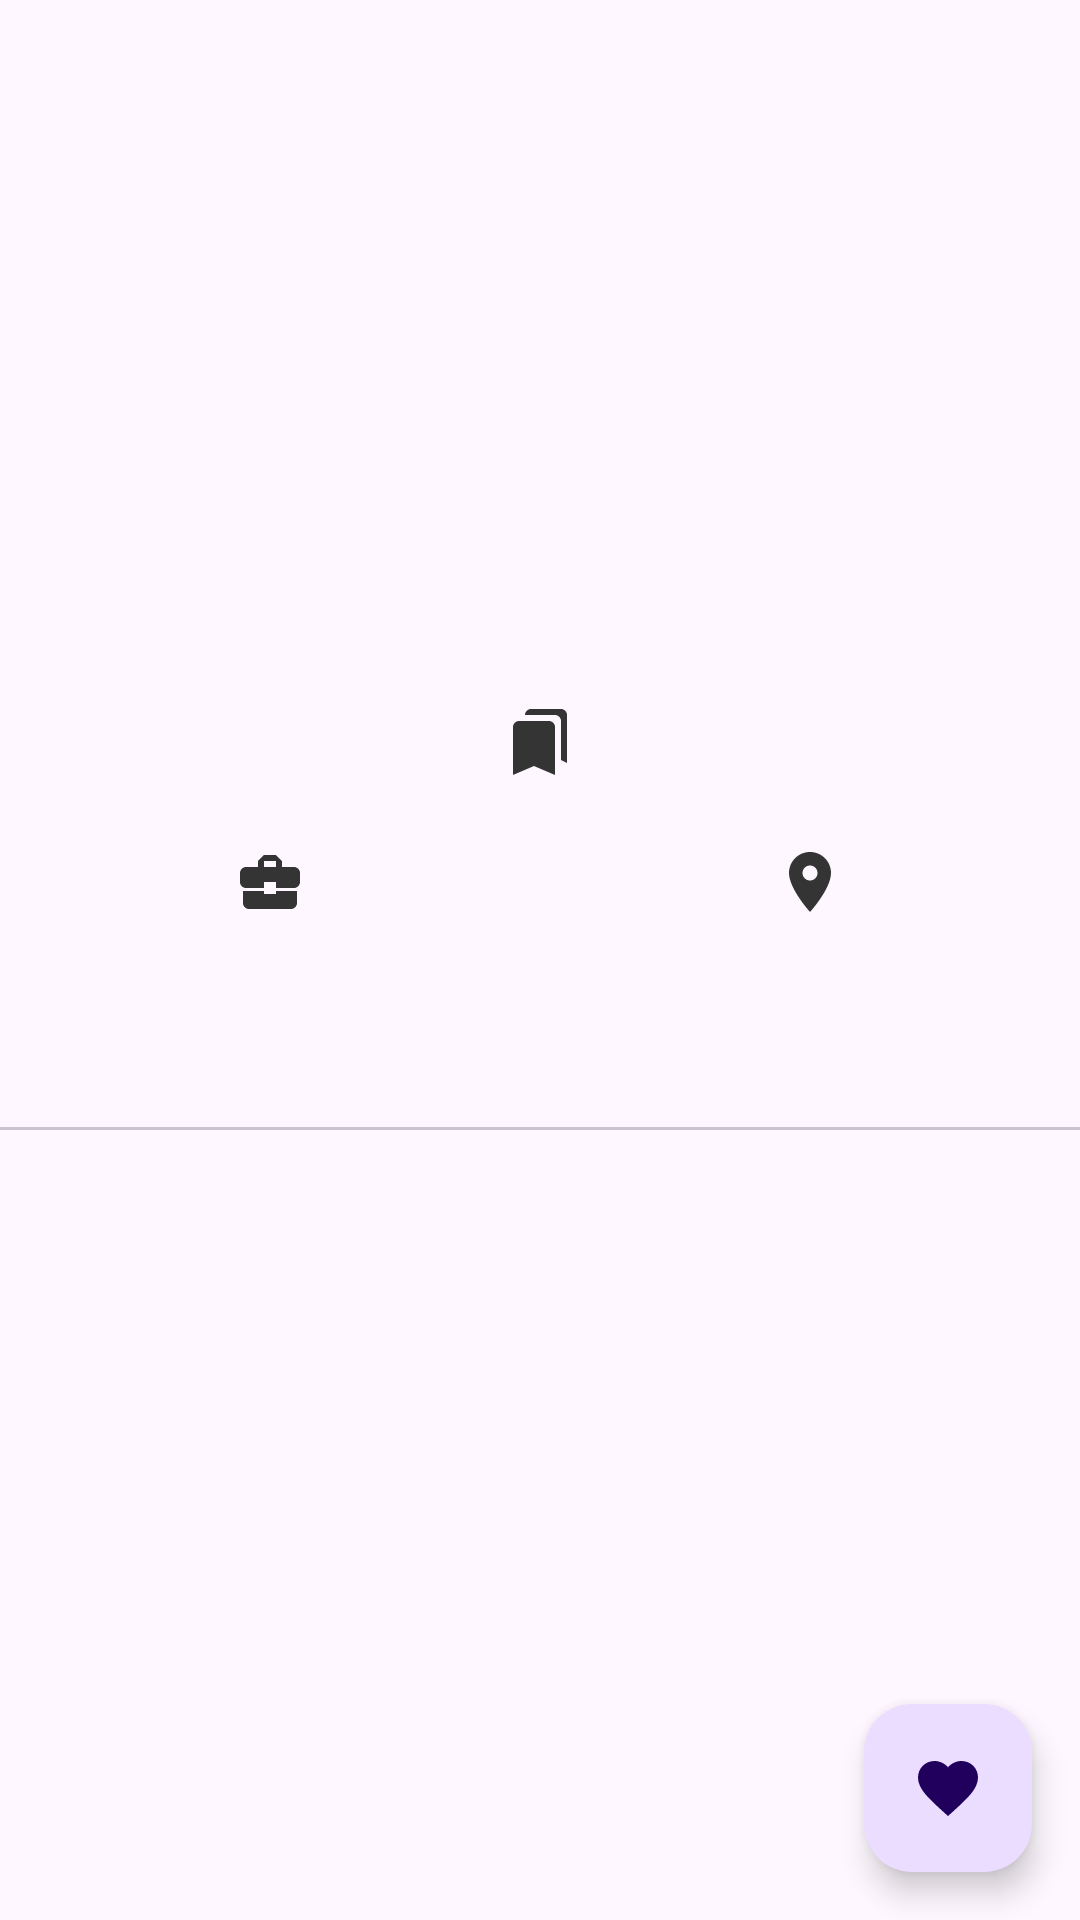

Icons on this 1080px x 1920px Android screen, each with its box as (x1, y1, x2, y2):
favorite: (864, 1704, 1032, 1872)
